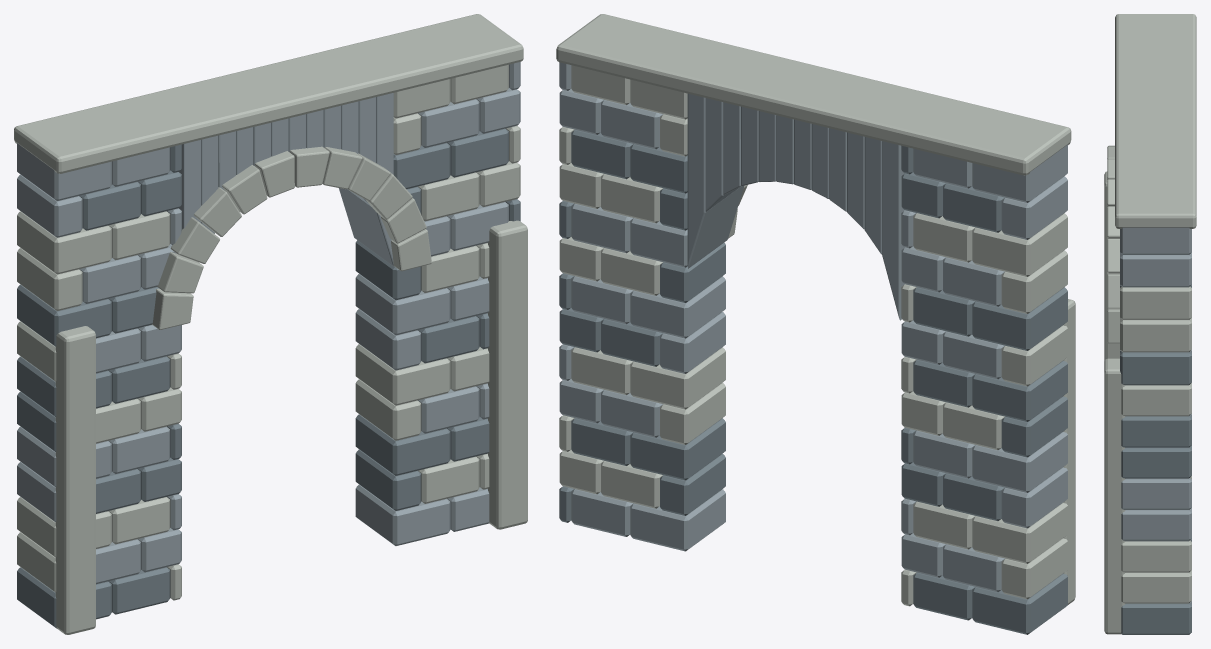
File: castle_gate_arch_4m.glb
The picture shows the model from 3 angles, left to right: view 1: azimuth 30°, elevation 25°; view 2: azimuth 150°, elevation 25°; view 3: azimuth 270°, elevation 25°; orthographic projection. The views are drawn at different scales.
Visible parts, largest first — view 1: castle_gate_arch_4m; view 2: castle_gate_arch_4m; view 3: castle_gate_arch_4m.
Part boxes in pixels (left/top/right/bottom): castle_gate_arch_4m: left=14, top=14, right=527, bottom=634; castle_gate_arch_4m: left=556, top=14, right=1075, bottom=634; castle_gate_arch_4m: left=1104, top=14, right=1196, bottom=634.
Bounding box in the file's own units: 4 × 3.88 × 0.77.
